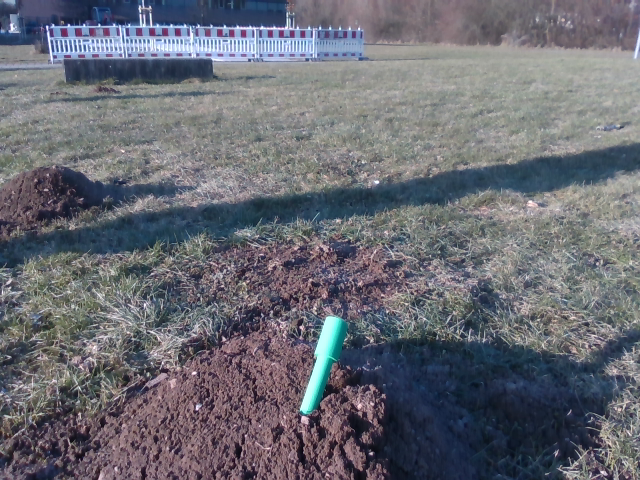Probe: (295, 313, 355, 422)
